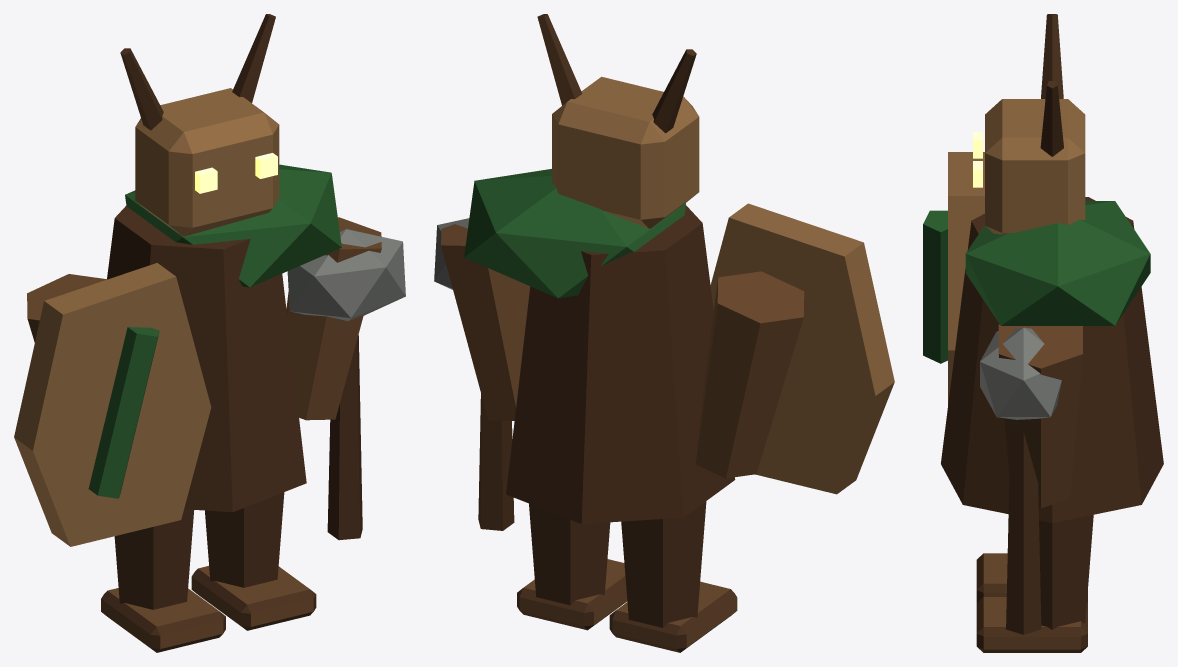
The model's file is root_keeper.glb.
3 views of the same model, side by side, from view 1: azimuth 30°, elevation 25°; view 2: azimuth 150°, elevation 25°; view 3: azimuth 270°, elevation 25° (orthographic). The views are drawn at different scales.
Visible parts, largest first — view 1: arm_l, body, head, arm_r, leg_l, leg_r; view 2: body, arm_l, head, arm_r, leg_l, leg_r; view 3: body, arm_r, head, leg_r, arm_l, leg_l.
Part boxes in pixels (x1,y1,x2,y2): arm_l: (14, 263, 211, 546); body: (107, 164, 341, 512); head: (120, 14, 279, 236); arm_r: (286, 217, 405, 540); leg_l: (101, 509, 225, 652); leg_r: (191, 492, 316, 630); body: (464, 169, 735, 523); arm_l: (695, 203, 894, 494); head: (537, 14, 699, 228); arm_r: (434, 218, 530, 530); leg_l: (609, 501, 737, 652); leg_r: (517, 503, 627, 630); body: (941, 197, 1163, 522); arm_r: (980, 324, 1082, 634); head: (973, 14, 1085, 234); leg_r: (976, 515, 1093, 652); arm_l: (923, 152, 984, 404); leg_l: (976, 553, 1087, 602).
Bounding box in the file's own units: 1.63 × 2.19 × 0.8418.
